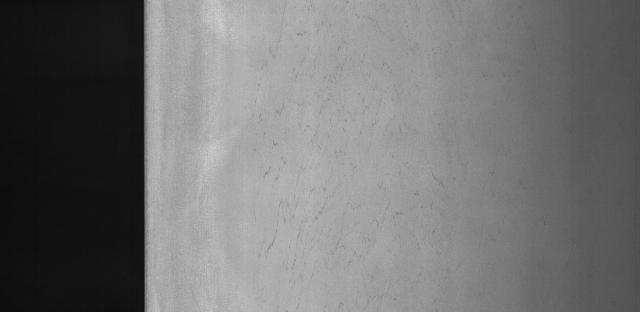silk_spot: (241, 13, 400, 265)
